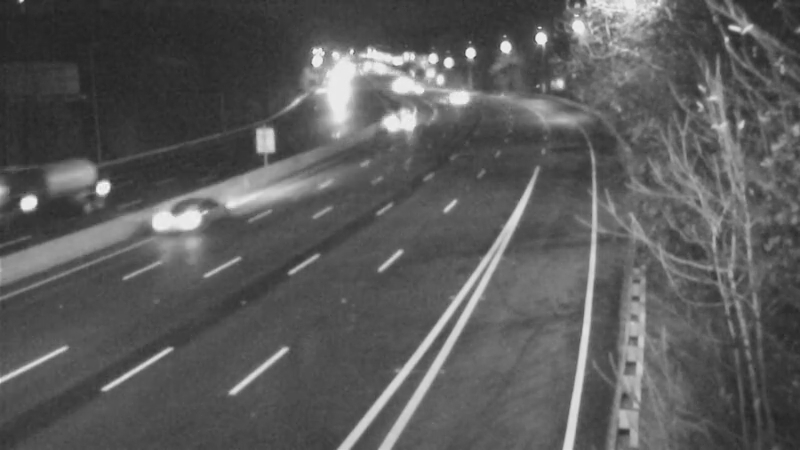vehicle: (142, 179, 222, 259), (1, 144, 76, 224), (393, 64, 443, 114), (428, 72, 478, 122), (387, 92, 437, 142)
